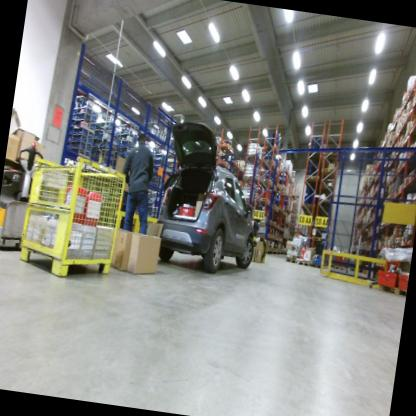pallet: (376, 281, 406, 298), (317, 163, 341, 181), (315, 183, 337, 197), (302, 170, 323, 184), (309, 232, 329, 246), (299, 198, 318, 211), (347, 264, 363, 273), (309, 260, 323, 270), (298, 258, 312, 268), (333, 263, 345, 271), (285, 256, 298, 263)
pallet_truck: (0, 132, 47, 263)
small_load_carrier: (378, 253, 402, 284), (369, 266, 400, 289), (395, 269, 408, 291)
stillage: (14, 140, 133, 291)
